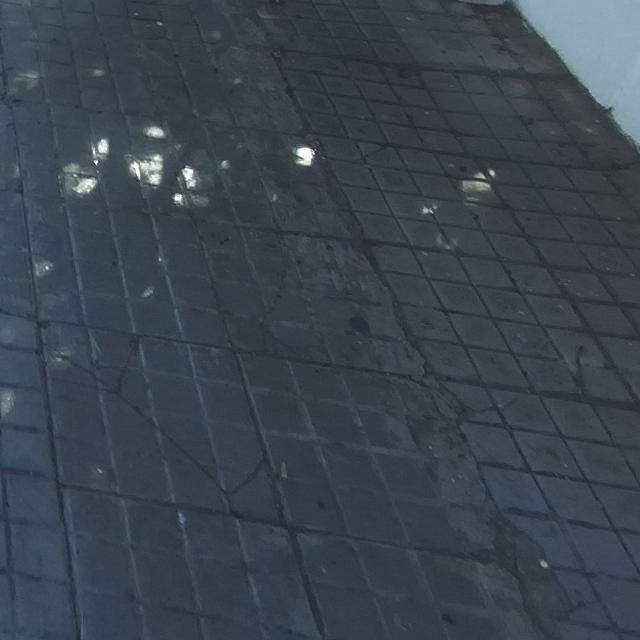calcada_quebrada: (41, 340, 285, 525), (445, 380, 531, 431), (255, 231, 294, 339), (567, 337, 594, 400), (566, 591, 615, 625)
